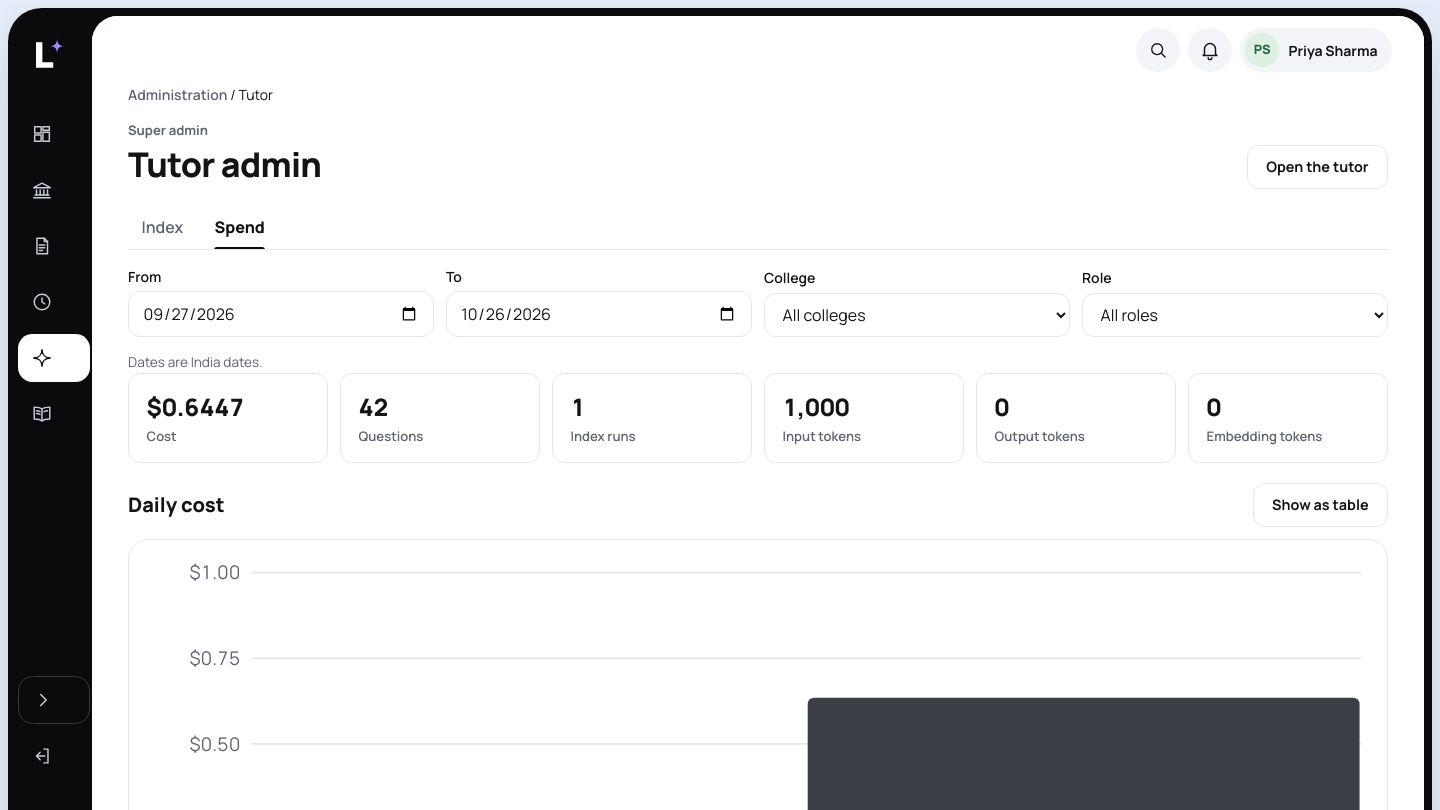
spend tab › loads the totals and chart, and puts the filters in the URL
Expected: the text "$0.6447" is shown, [147, 390, 244, 423]
Expected: the text "42" is shown, [359, 390, 388, 423]
Select "College student" in the dropdown labelled "Role": point(1235, 315) [1082, 293, 1388, 337]
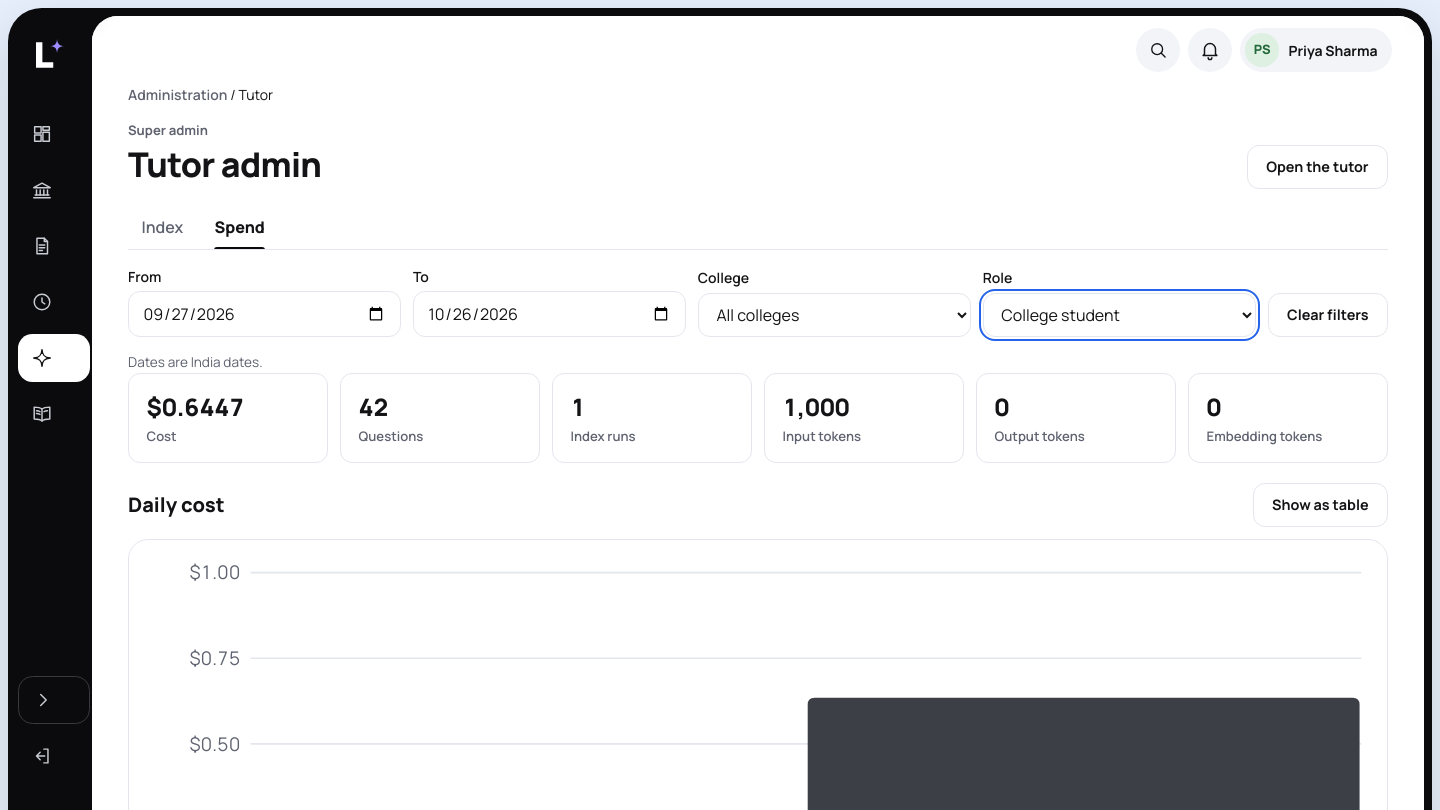
Select "National Law School (NLSIU)" in the dropdown labelled "College": point(834, 315) [698, 293, 971, 337]
(page scrolled)
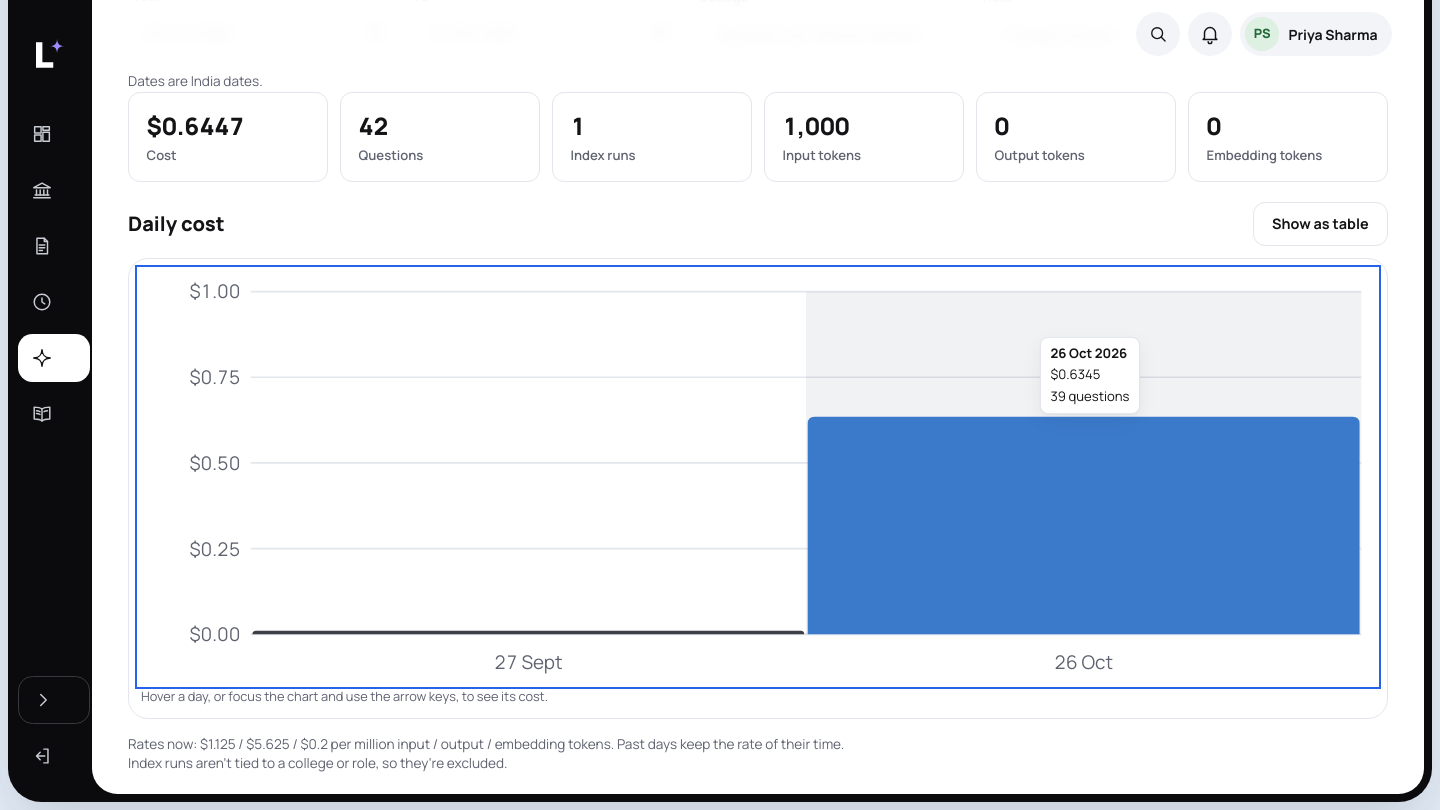
Now the text "Index runs aren.t tied to a college or role, so they.re excluded." is shown, box [128, 754, 508, 772]
Press Home
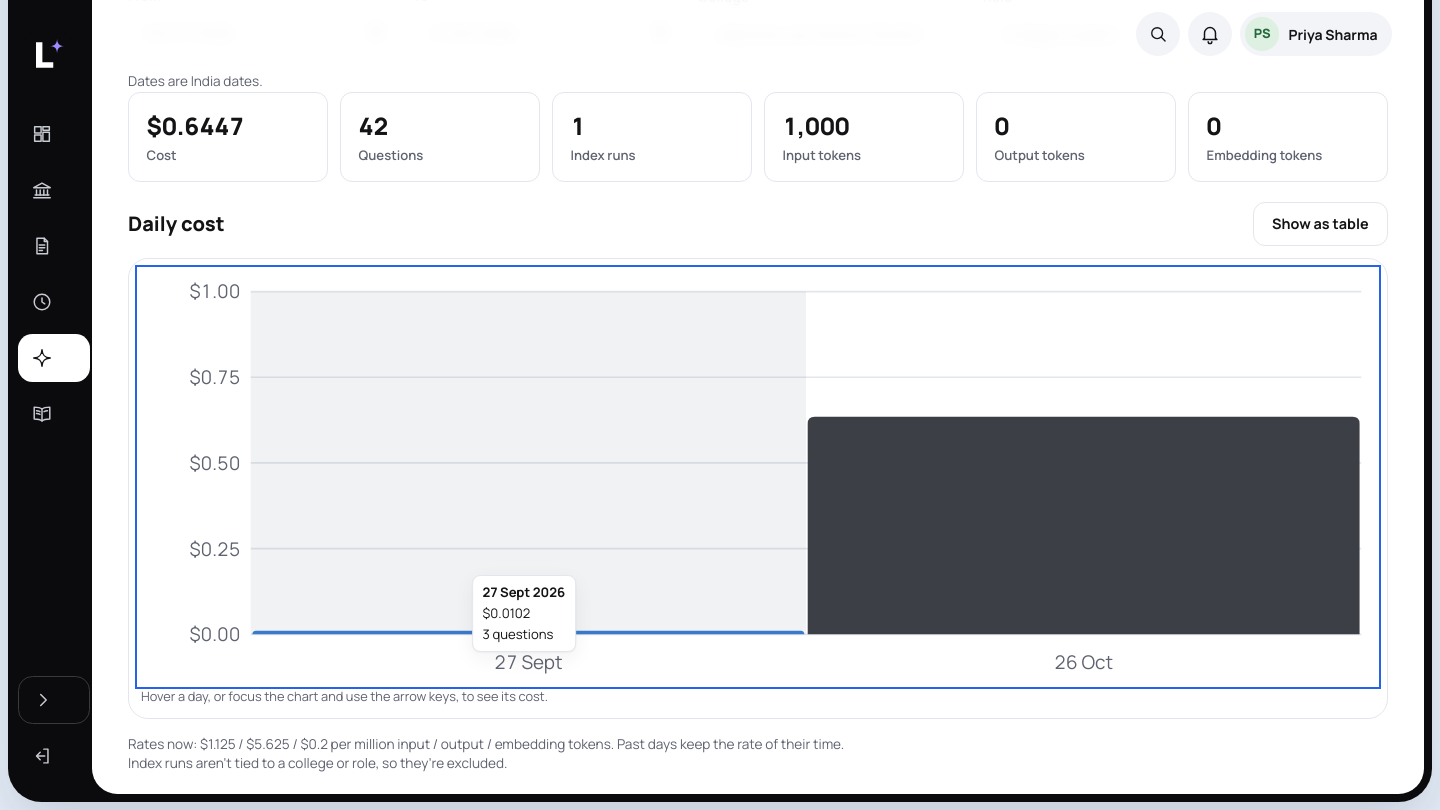
Click the button "Show as table": point(1320, 224) [1253, 202, 1388, 246]
(page scrolled)
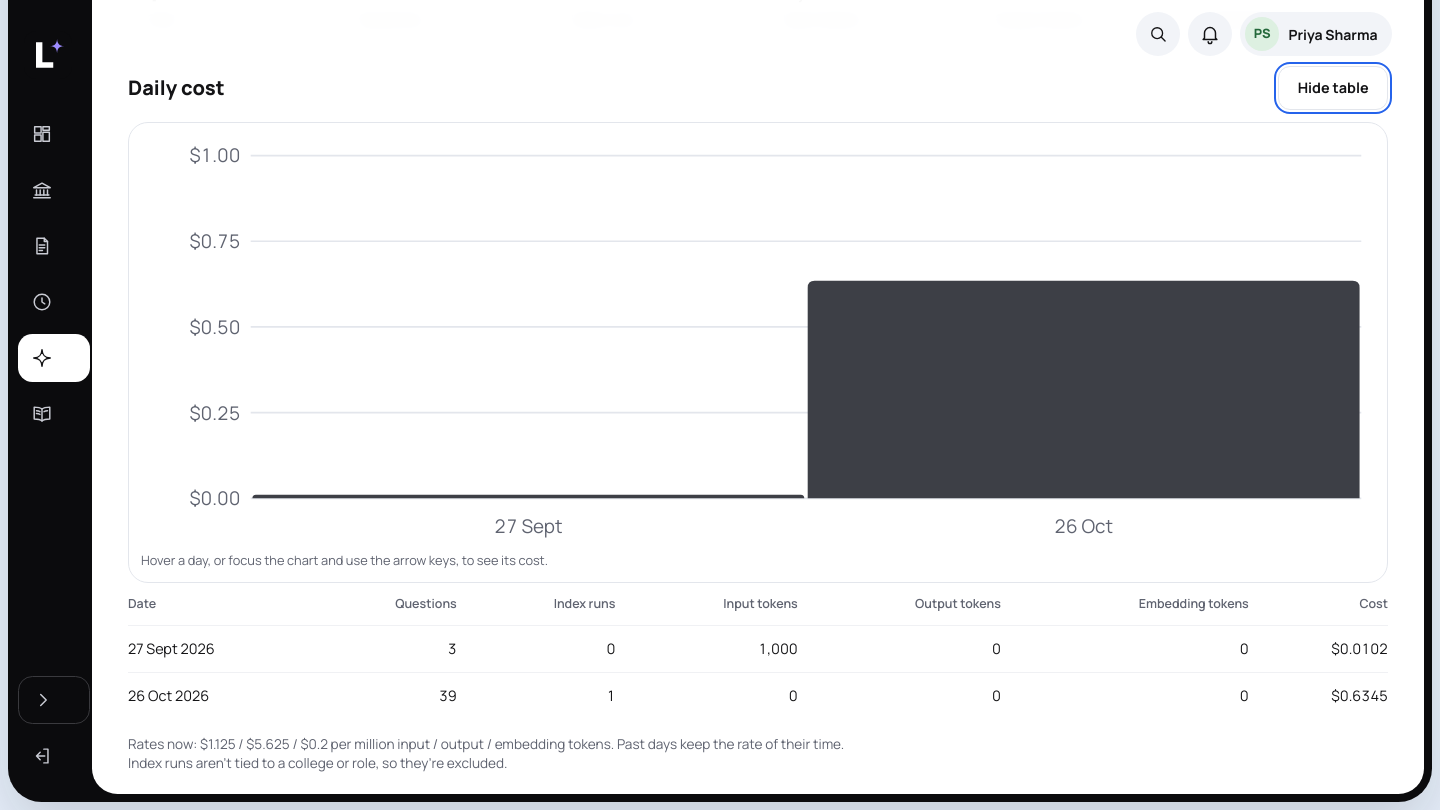
Now the table is shown, box [128, 583, 1388, 719]
